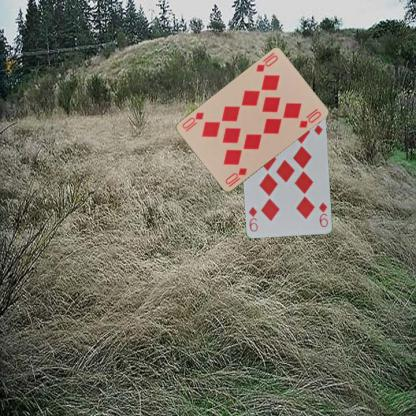10d: (253, 50, 279, 73), (222, 165, 248, 186)
9d: (317, 200, 329, 228)
